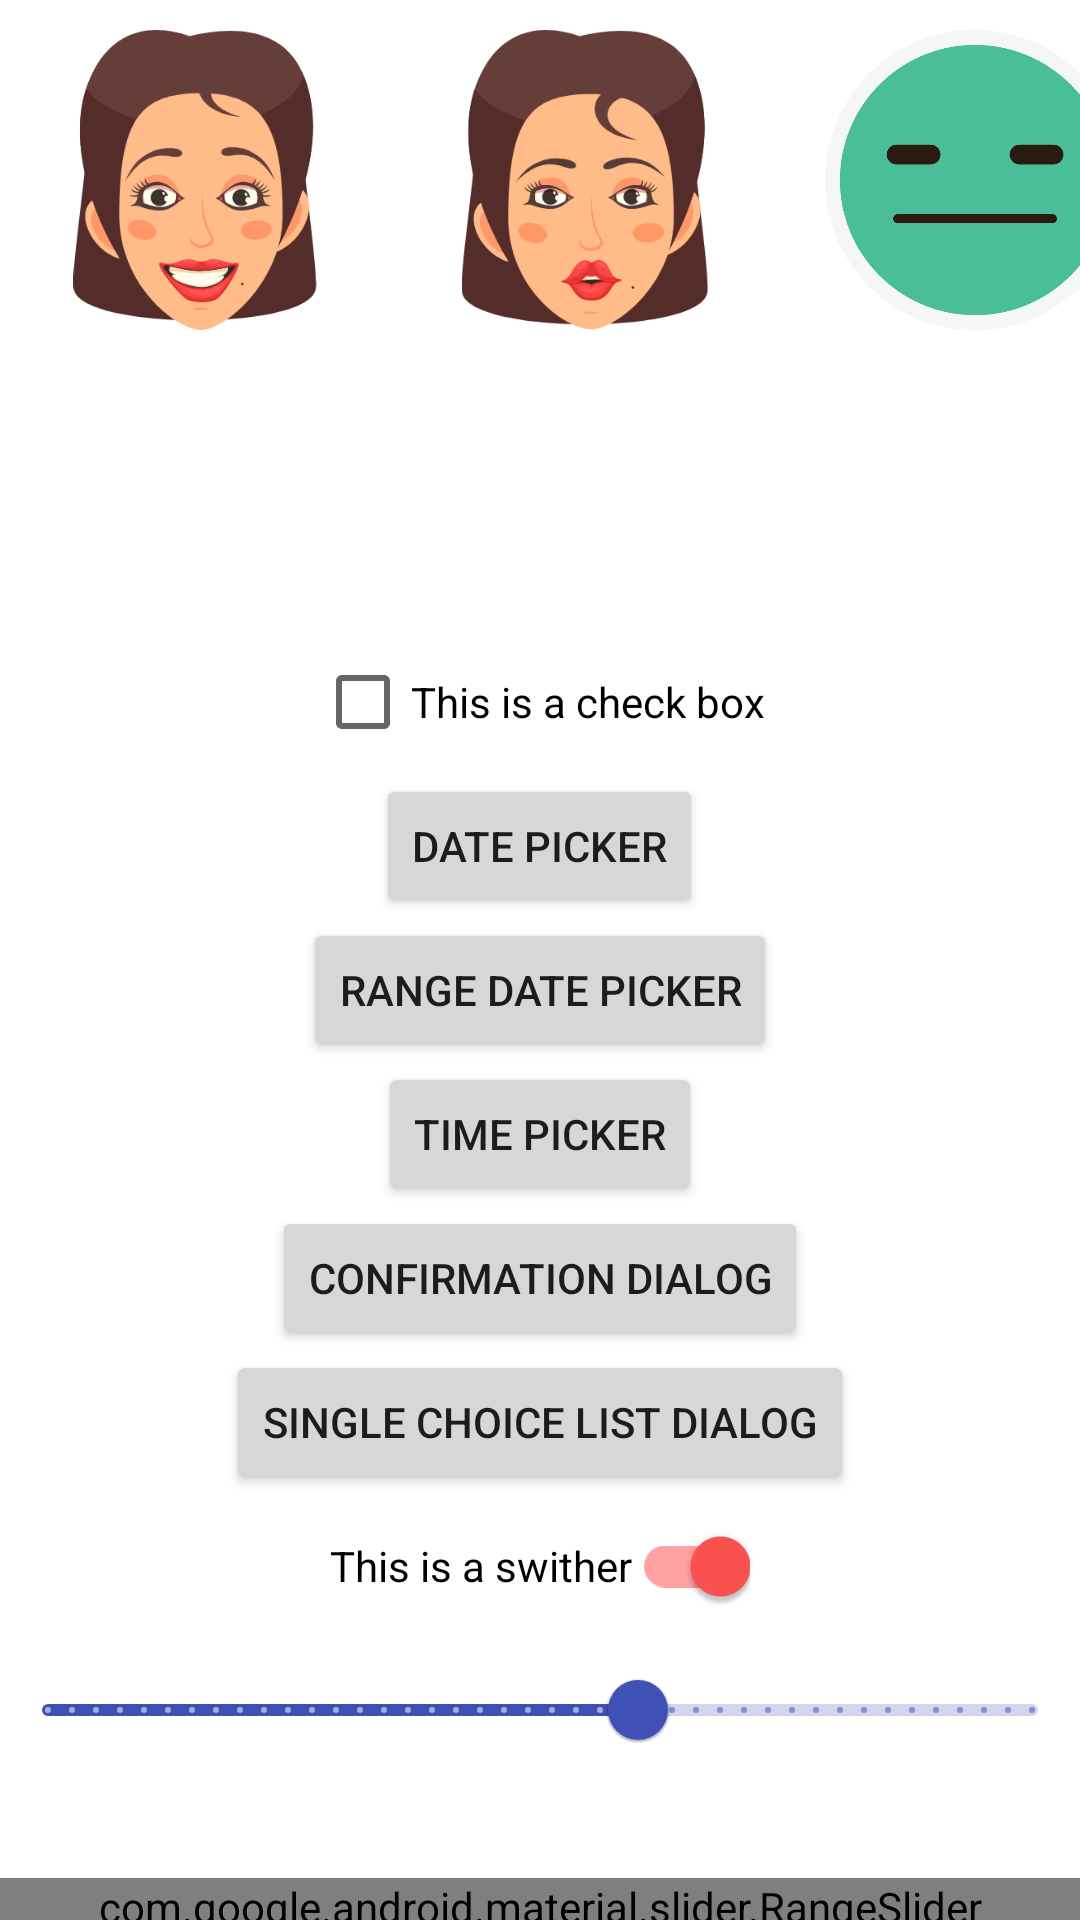

Icons on this 1080×1920 Android screen, each with its box as (x1, y1, x2, y2):
mood happy: (73, 30, 317, 330)
